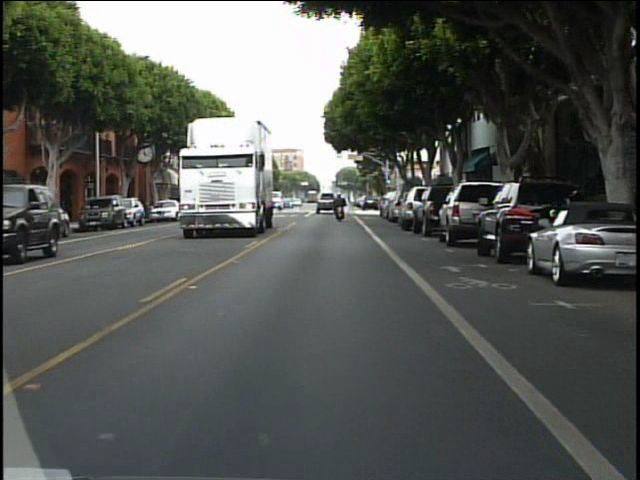person: (332, 191, 348, 223)
